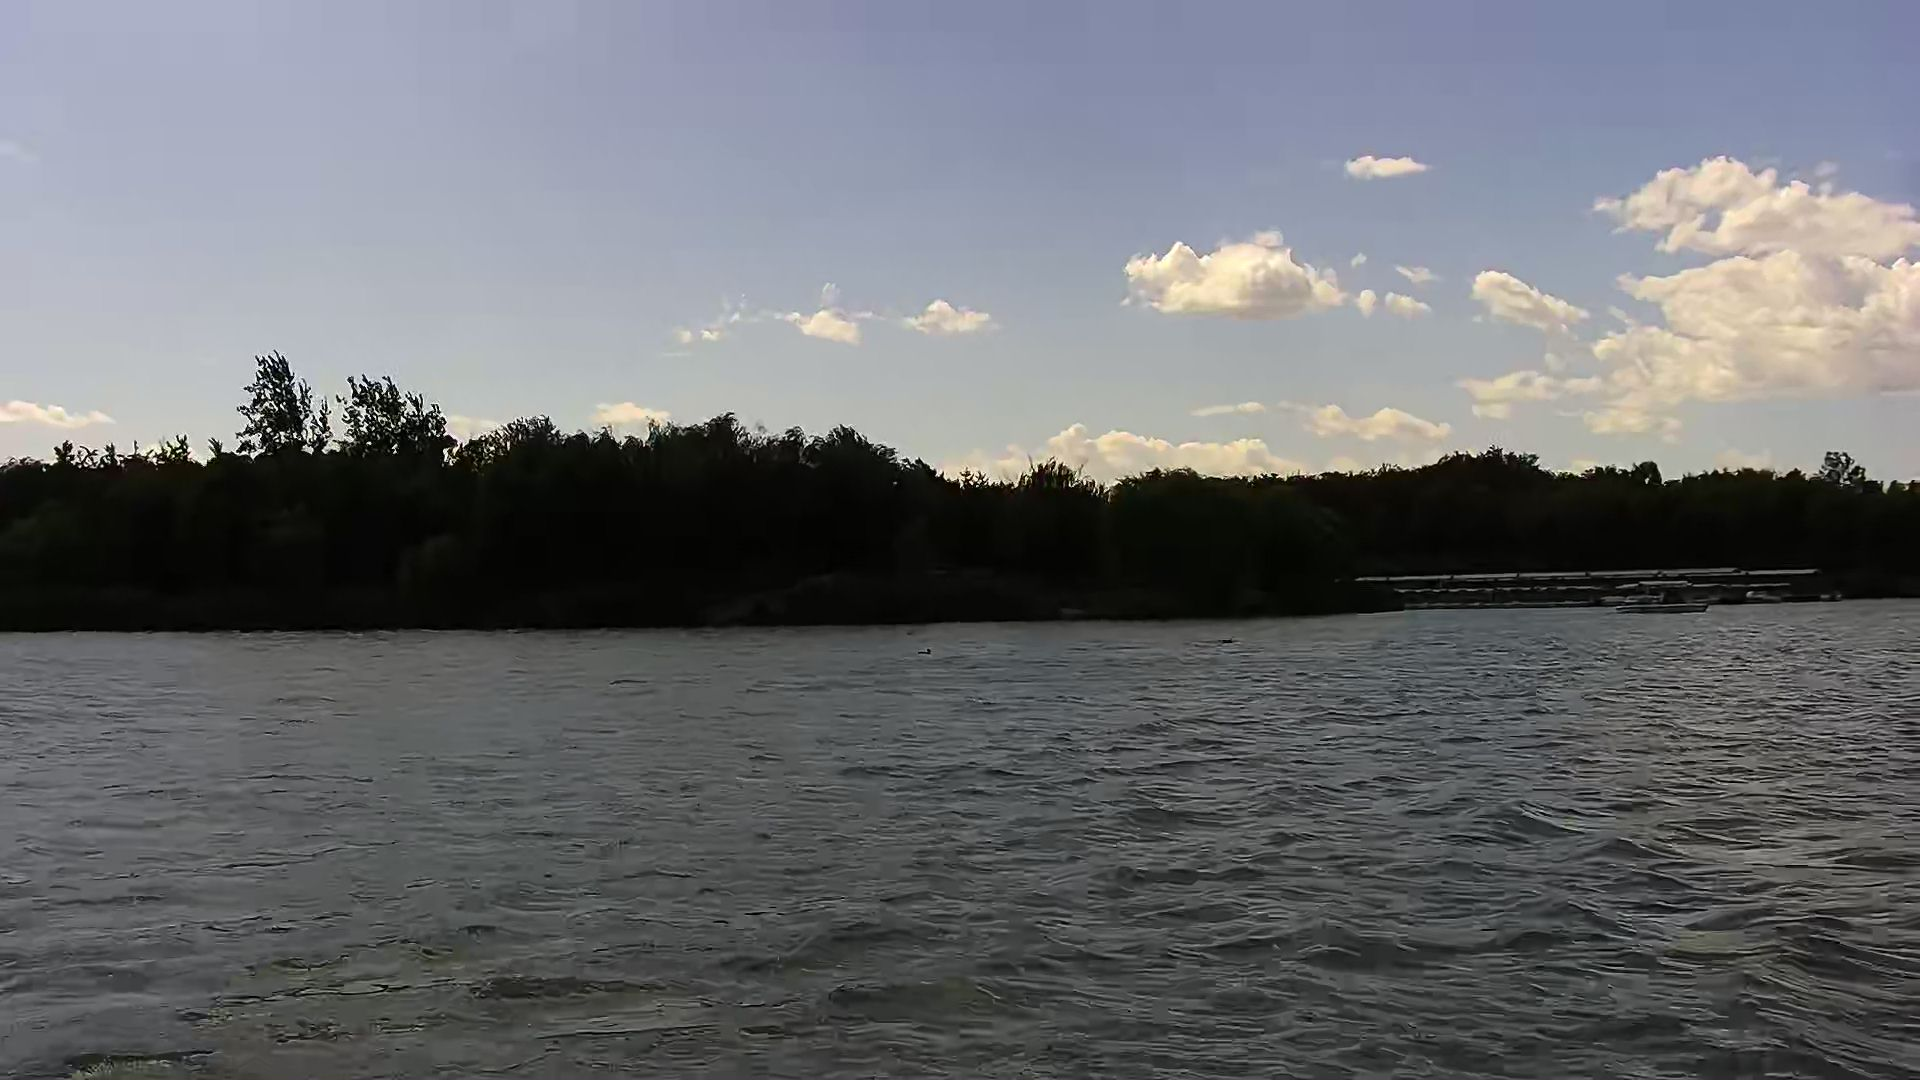boat: (1609, 575, 1712, 618)
harbor: (1356, 568, 1821, 611)
